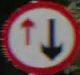Two way: (10, 12, 69, 63)
